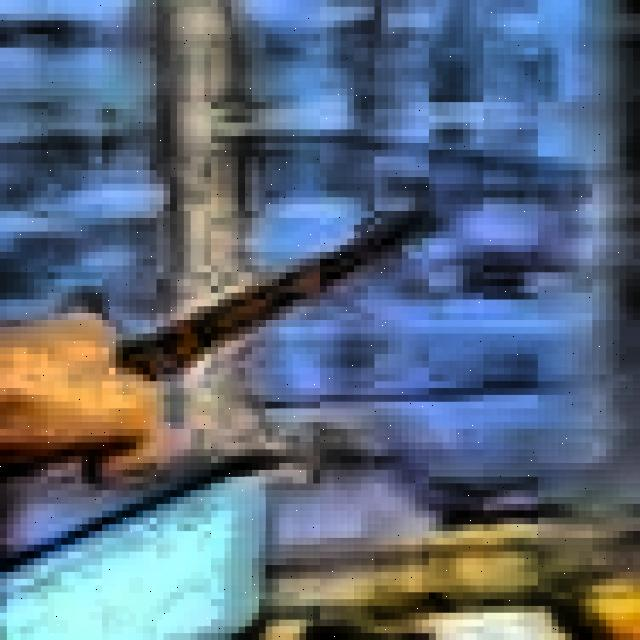knife: (119, 220, 430, 380)
